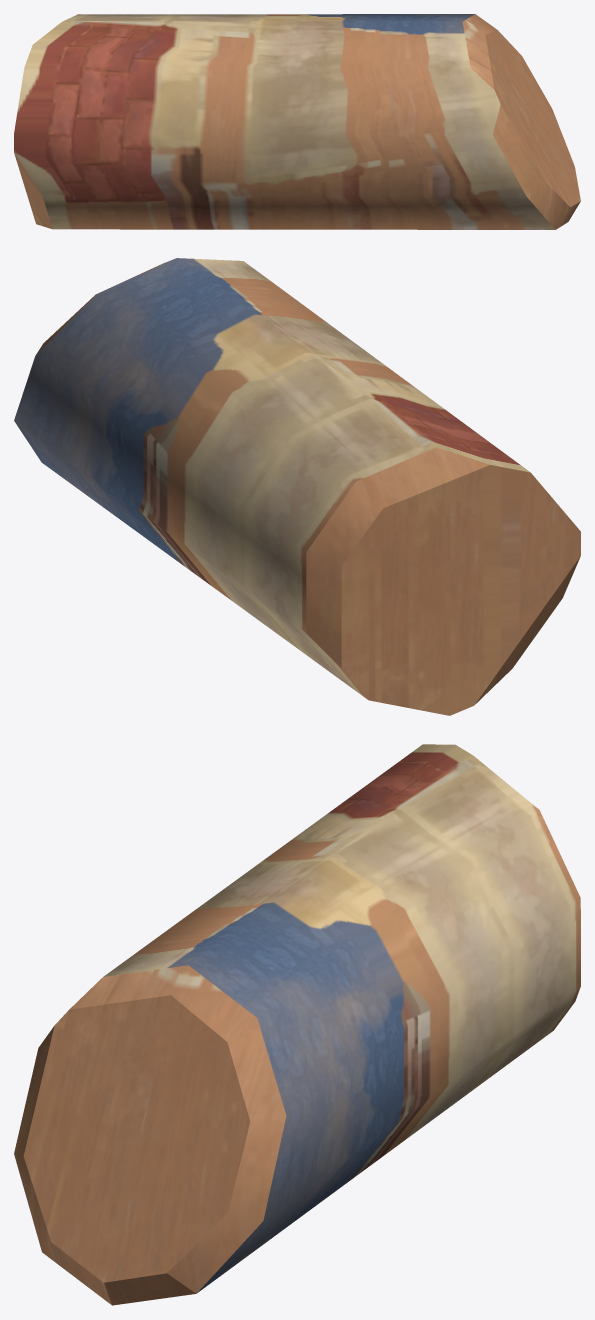
The model's file is SM_ColumnBreakFloor.fbx.
3 renders of one model, top to bottom at view 1: azimuth 30°, elevation 25°; view 2: azimuth 150°, elevation 25°; view 3: azimuth 270°, elevation 25°, orthographic. The views are drawn at different scales.
Visible parts, largest first — view 1: pCylinder488; view 2: pCylinder488; view 3: pCylinder488.
Part boxes in pixels (x1,y1,x2,y2): pCylinder488: [14, 14, 580, 229]; pCylinder488: [14, 258, 580, 715]; pCylinder488: [14, 744, 580, 1305].
Bounding box in the file's own units: 1.4 × 0.5515 × 0.9927.
